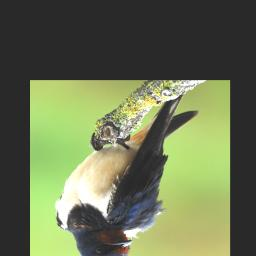Swallow: (54, 91, 200, 256)
